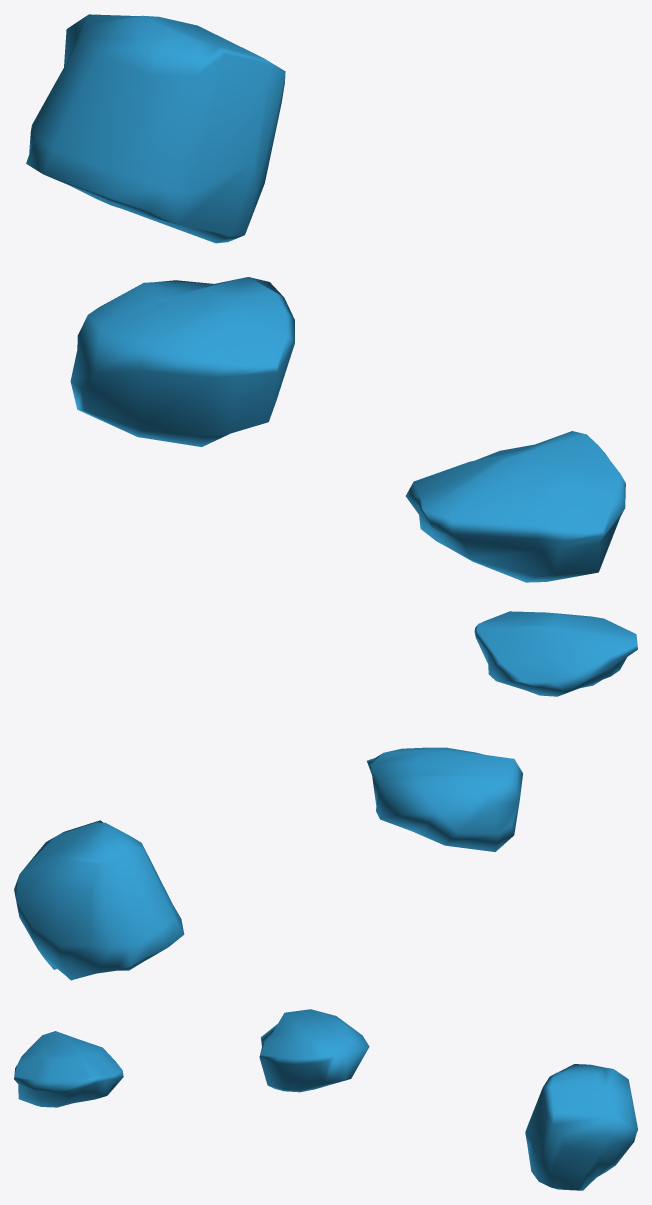
Rendered from Scree_02_Lod2.fbx.
The picture shows the model from 3 angles, top to bottom: view 1: azimuth 30°, elevation 25°; view 2: azimuth 150°, elevation 25°; view 3: azimuth 270°, elevation 25°; orthographic projection. The views are drawn at different scales.
Visible parts, largest first — view 1: Scree_02_Lod2; view 2: Scree_02_Lod2; view 3: Scree_02_Lod2.
Part boxes in pixels (x1,y1,x2,y2): Scree_02_Lod2: (26,14,625,582); Scree_02_Lod2: (14,611,637,980); Scree_02_Lod2: (14,1009,637,1190).
Size of the model in its own units: 1115 by 500 by 2695.
